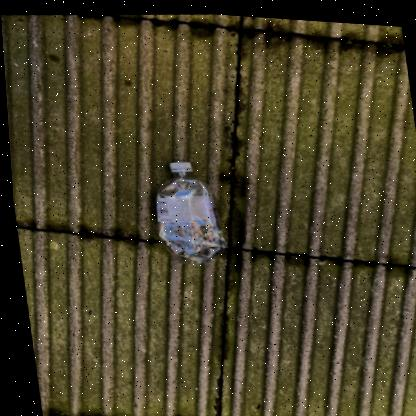Plastic: (152, 158, 223, 260)
